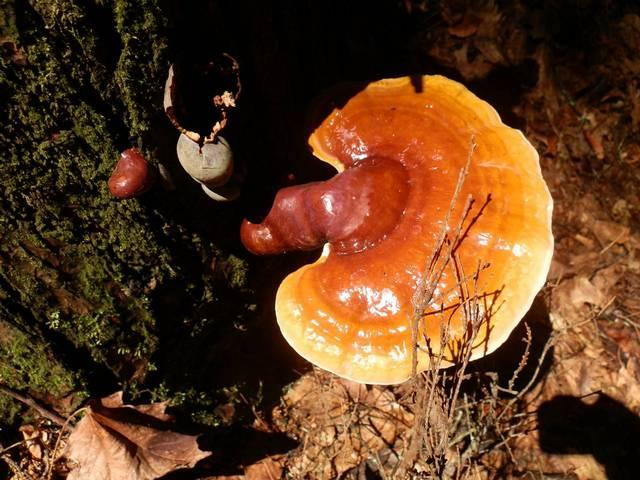Non-edible Mushroom: (239, 71, 555, 386)
